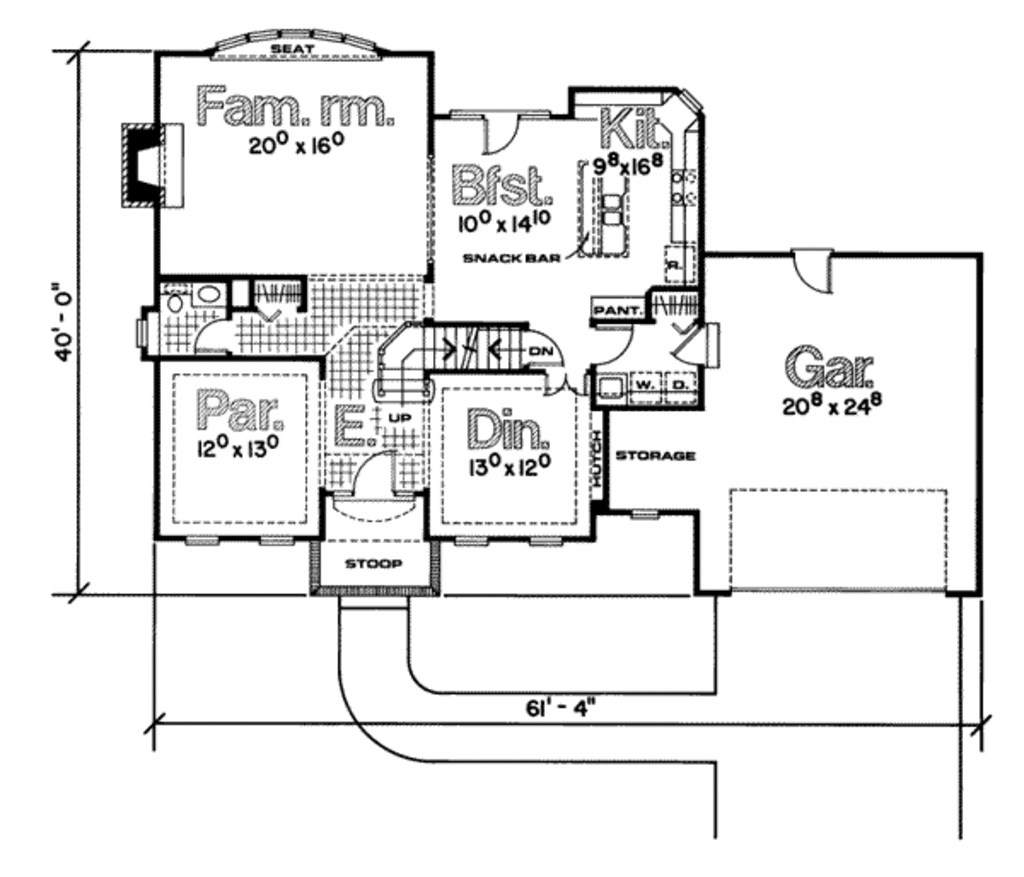door: (787, 244, 842, 294), (518, 322, 566, 372), (588, 322, 638, 368), (352, 446, 394, 500), (477, 110, 522, 153), (189, 319, 239, 357), (538, 368, 589, 403)
large_sink: (161, 275, 193, 315)
stairs: (369, 320, 525, 397)
twin_sink: (598, 183, 631, 235)
window: (211, 20, 384, 66), (129, 313, 154, 351), (451, 532, 493, 553), (523, 532, 565, 553), (181, 532, 223, 551), (254, 531, 294, 548), (630, 507, 669, 522)
